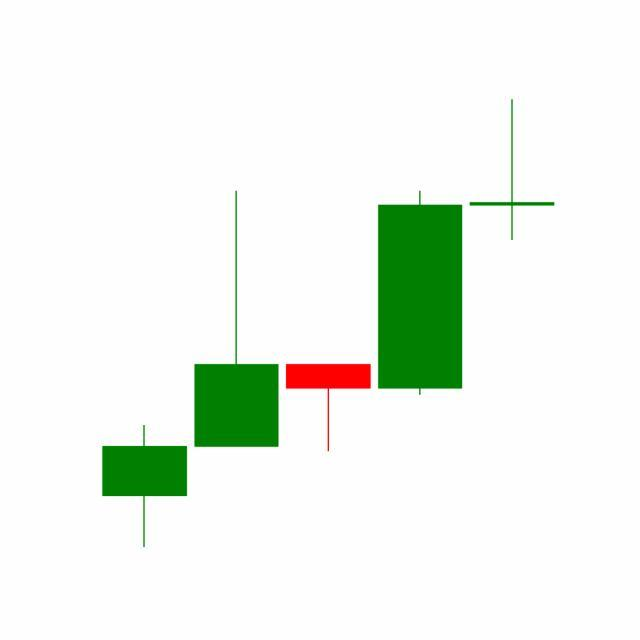Spinning Top: (466, 98, 559, 243)
